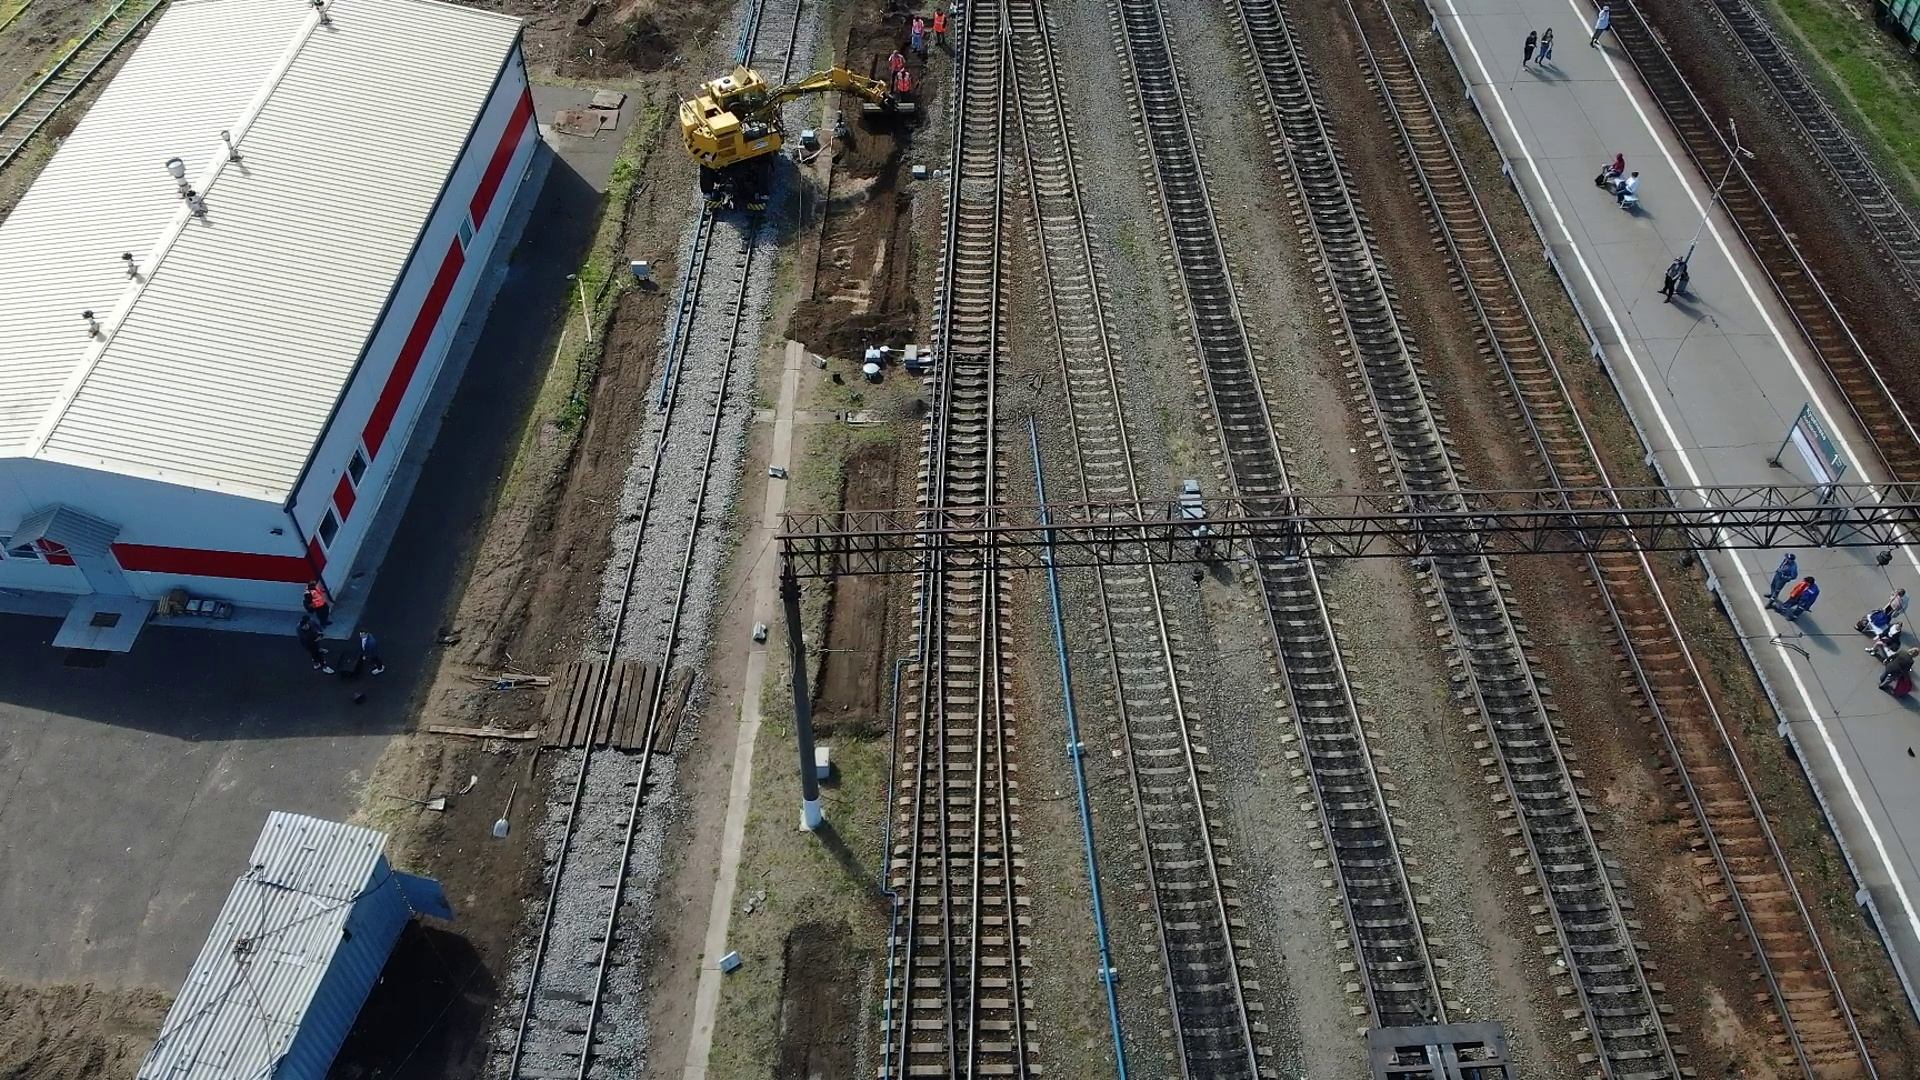kjtv: (680, 59, 796, 216)
